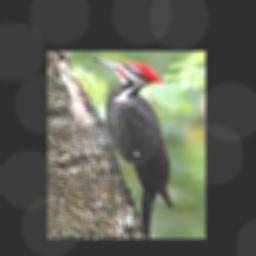Woodpecker: (90, 56, 172, 238)
